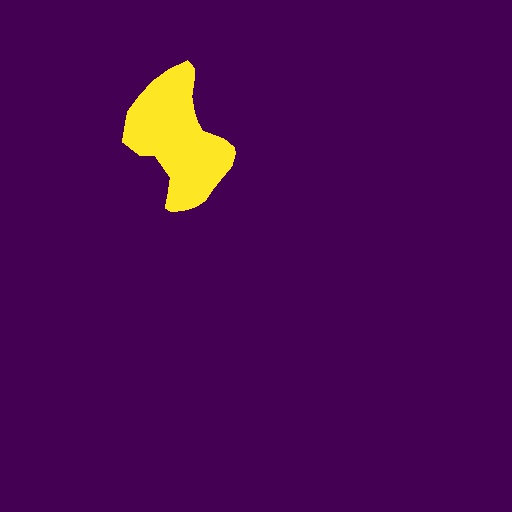Gliomia_tumour: (122, 60, 236, 212)
